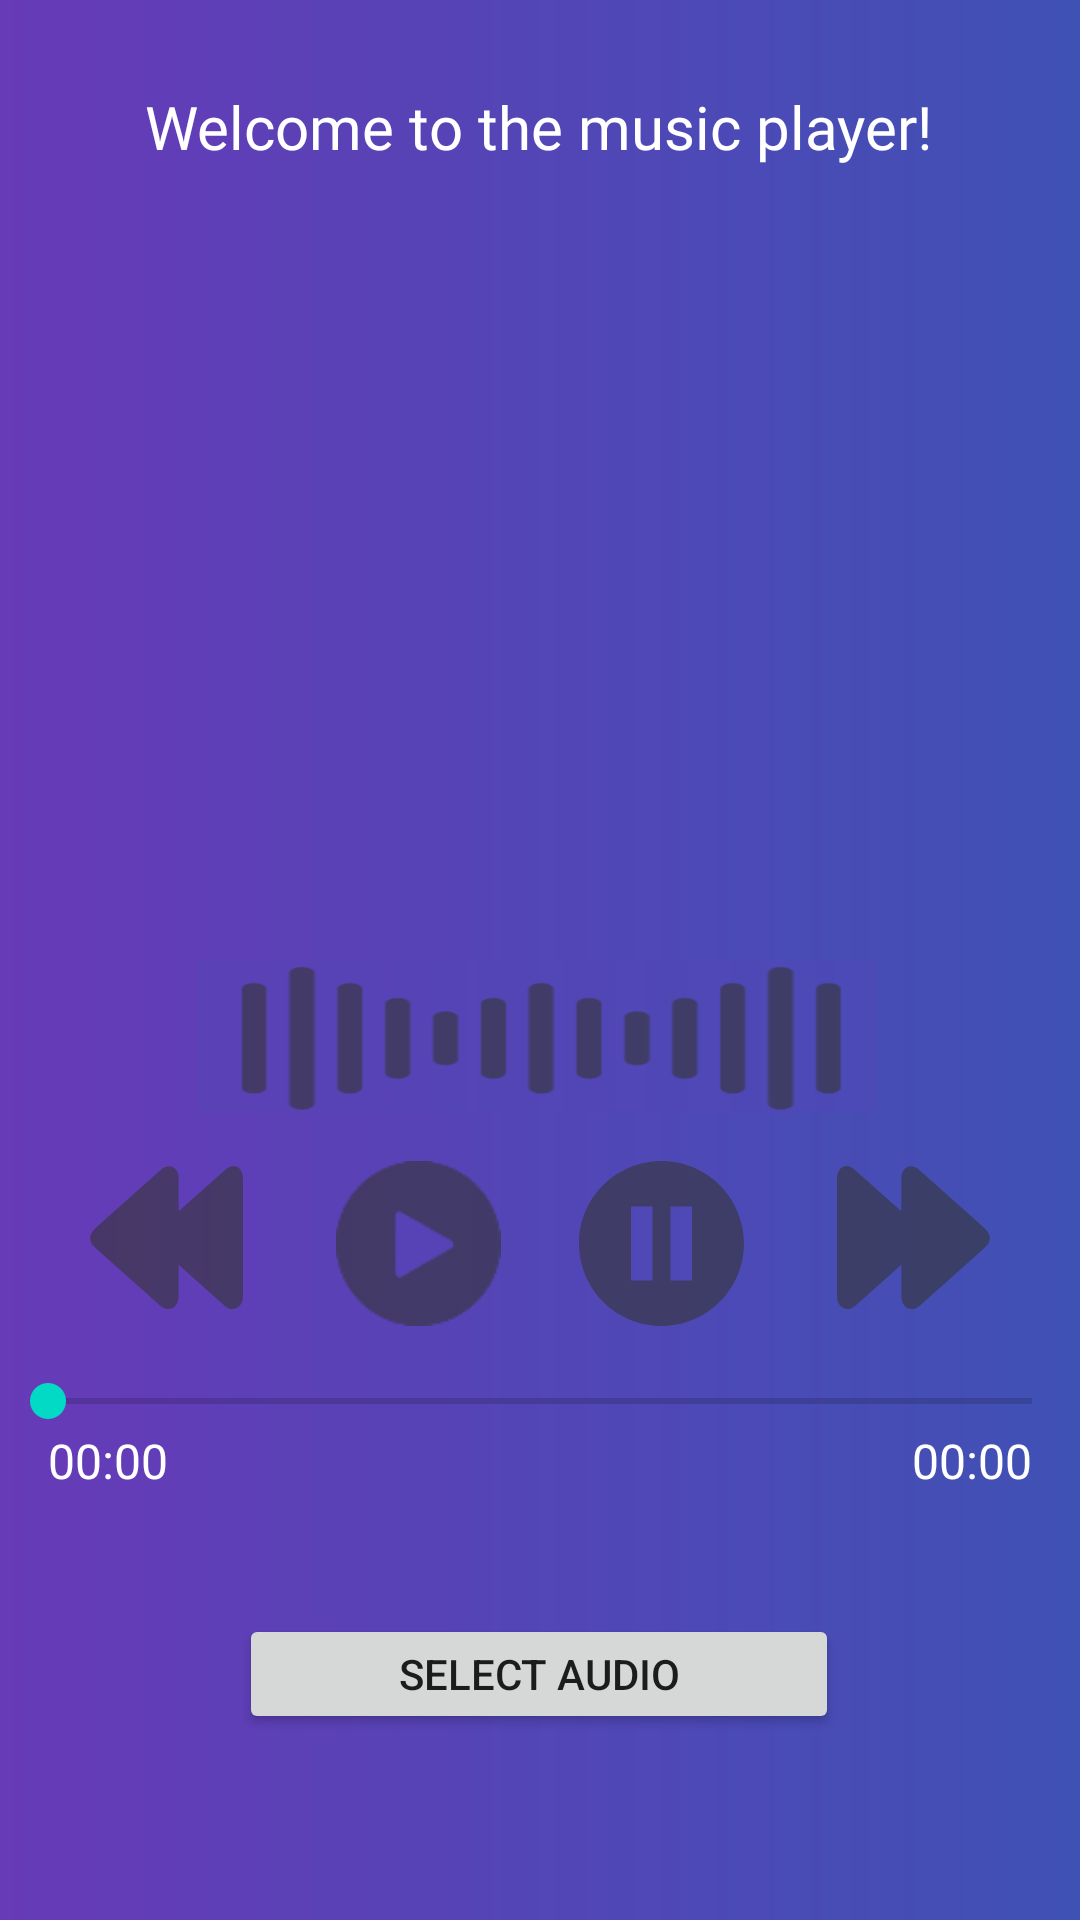

Icon click points for this 1080 x 1920 phone screenshot, format (x=x, y=y):
backwardsicon: (x=166, y=1237)
pauseicon: (x=661, y=1243)
playicon: (x=418, y=1243)
skipicon: (x=913, y=1237)
